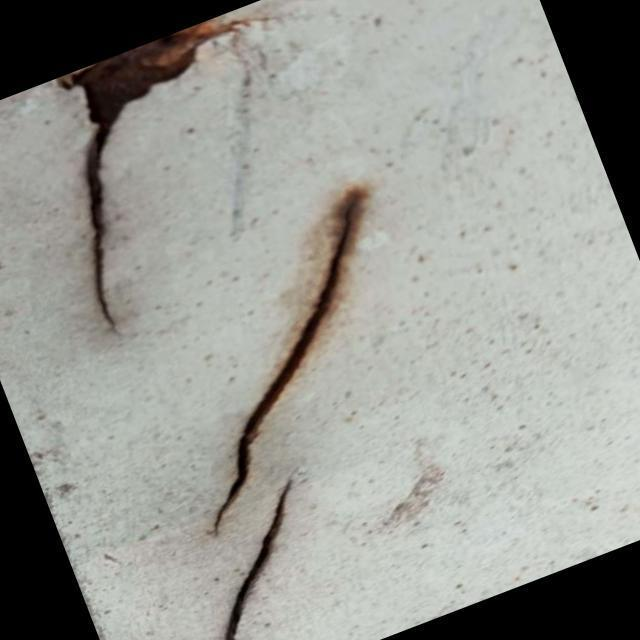defect: (207, 177, 376, 540), (219, 455, 301, 640), (80, 103, 139, 345)
